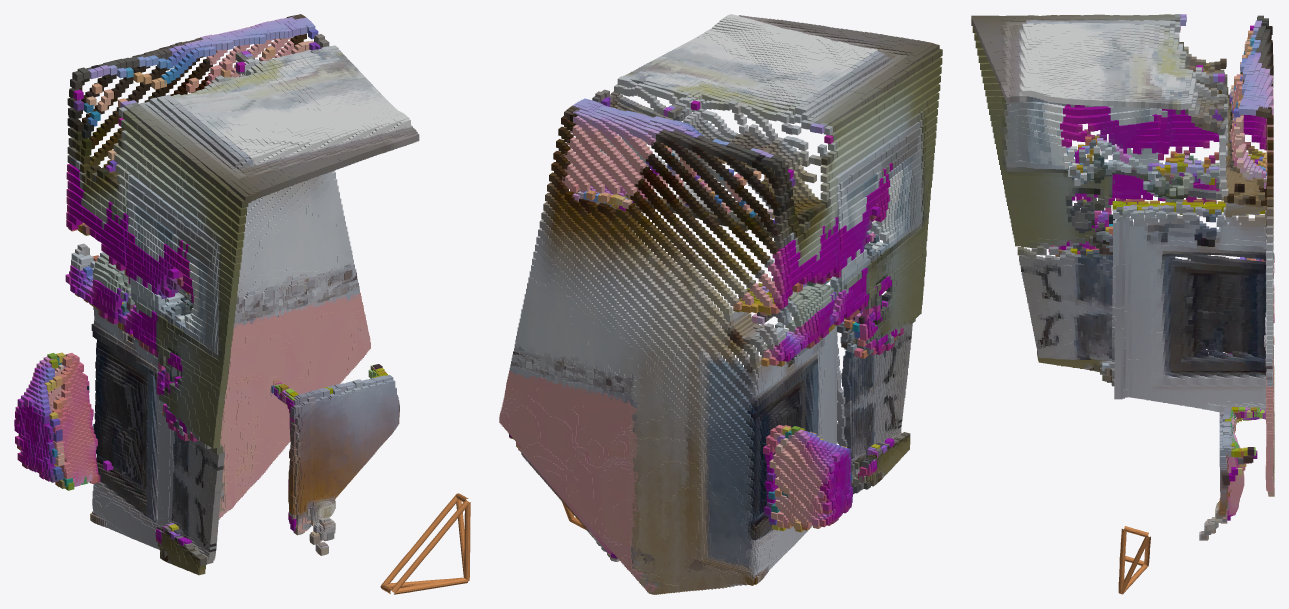
The picture shows the model from 3 angles, left to right: view 1: azimuth 30°, elevation 25°; view 2: azimuth 150°, elevation 25°; view 3: azimuth 270°, elevation 25°; orthographic projection. The views are drawn at different scales.
Bounding box in the file's own units: 2.94 × 4.01 × 2.4.
